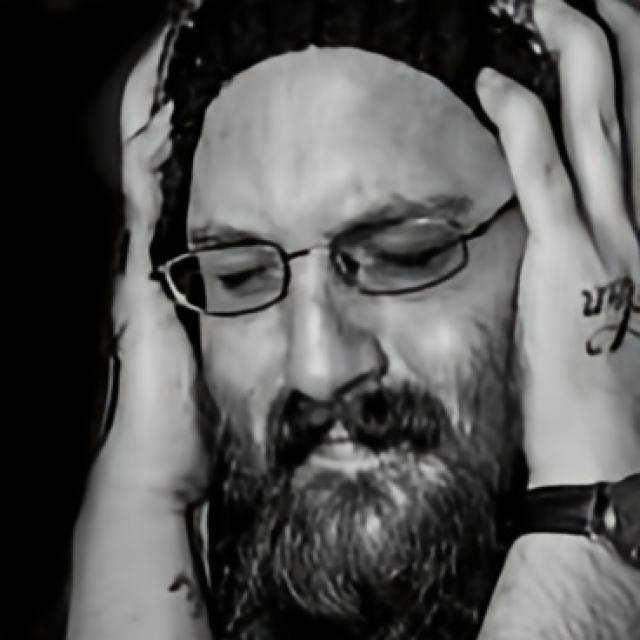sad: (186, 45, 518, 542)
